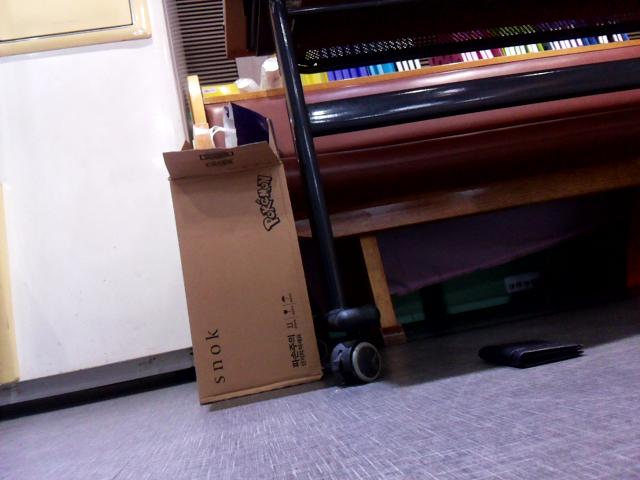wallet: (475, 335, 591, 375)
